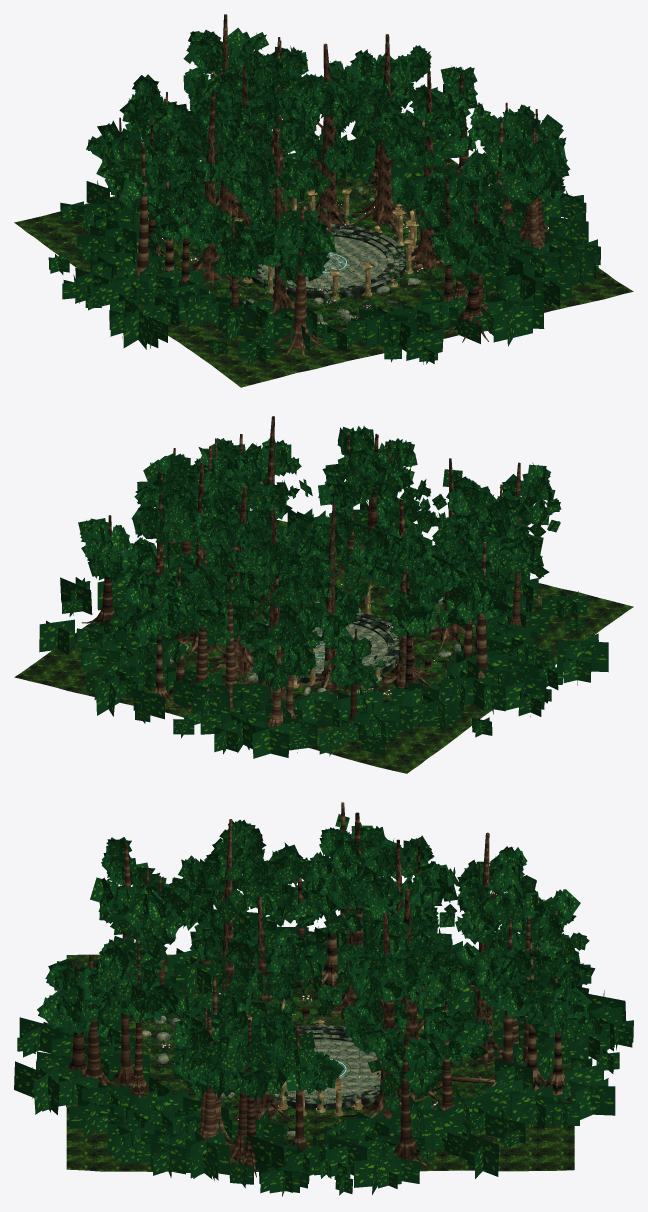
File: cel_forest_arena.glb
3 renders of one model, top to bottom at view 1: azimuth 30°, elevation 25°; view 2: azimuth 150°, elevation 25°; view 3: azimuth 270°, elevation 25°, orthographic. The views are drawn at different scales.
Parts seen in each view (by area): view 1: FOLIAGE_Undergrowth, TREE_Background_Canopy, TERRAIN_Ground, TREE_Background_Bark, TREE_Hero_01_Canopy, TREE_Hero_06_Canopy, TREE_Hero_04_Canopy, TREE_Hero_05_Canopy, TREE_Hero_00_Canopy, TREE_Hero_02_Canopy, ARENA_Flagstones, TREE_Hero_03_Canopy (+13 smaller); view 2: TREE_Background_Canopy, FOLIAGE_Undergrowth, TERRAIN_Ground, TREE_Background_Bark, TREE_Hero_02_Canopy, TREE_Hero_04_Canopy, TREE_Hero_05_Canopy, TREE_Hero_03_Canopy, TREE_Hero_00_Canopy, TREE_Hero_01_Canopy, TREE_Hero_06_Canopy, FOLIAGE_Ferns (+8 smaller); view 3: TREE_Background_Canopy, FOLIAGE_Undergrowth, TERRAIN_Ground, TREE_Background_Bark, TREE_Hero_00_Canopy, TREE_Hero_05_Canopy, TREE_Hero_02_Canopy, TREE_Hero_06_Canopy, TREE_Hero_04_Canopy, TREE_Hero_01_Canopy, TREE_Hero_03_Canopy, ARENA_Flagstones (+9 smaller).
Boxes of the visible parts, <box> form: FOLIAGE_Undergrowth: <box>48,120,600,365</box>; TREE_Background_Canopy: <box>86,31,570,292</box>; TERRAIN_Ground: <box>14,139,633,387</box>; TREE_Background_Bark: <box>117,37,548,357</box>; TREE_Hero_01_Canopy: <box>263,60,390,173</box>; TREE_Hero_06_Canopy: <box>376,84,479,211</box>; TREE_Hero_04_Canopy: <box>166,97,271,203</box>; TREE_Hero_05_Canopy: <box>228,145,331,267</box>; TREE_Hero_00_Canopy: <box>344,45,443,162</box>; TREE_Hero_02_Canopy: <box>183,27,268,112</box>; ARENA_Flagstones: <box>260,236,387,288</box>; TREE_Hero_03_Canopy: <box>189,67,286,192</box>; TREE_Background_Canopy: <box>78,426,561,691</box>; FOLIAGE_Undergrowth: <box>39,503,608,758</box>; TERRAIN_Ground: <box>14,520,633,773</box>; TREE_Background_Bark: <box>81,432,542,727</box>; TREE_Hero_02_Canopy: <box>206,526,333,651</box>; TREE_Hero_04_Canopy: <box>352,502,456,637</box>; TREE_Hero_05_Canopy: <box>398,469,501,593</box>; TREE_Hero_03_Canopy: <box>285,508,378,631</box>; TREE_Hero_00_Canopy: <box>155,474,254,571</box>; TREE_Hero_01_Canopy: <box>167,490,298,614</box>; TREE_Hero_06_Canopy: <box>212,438,312,541</box>; FOLIAGE_Ferns: <box>163,574,476,707</box>; TREE_Background_Canopy: <box>37,814,595,1112</box>; FOLIAGE_Undergrowth: <box>14,909,633,1196</box>; TERRAIN_Ground: <box>66,954,574,1171</box>; TREE_Background_Bark: <box>68,802,570,1177</box>; TREE_Hero_00_Canopy: <box>317,915,444,1061</box>; TREE_Hero_05_Canopy: <box>178,820,283,962</box>; TREE_Hero_02_Canopy: <box>419,846,539,986</box>; TREE_Hero_06_Canopy: <box>211,927,331,1032</box>; TREE_Hero_04_Canopy: <box>277,826,419,946</box>; TREE_Hero_01_Canopy: <box>336,905,484,1033</box>; TREE_Hero_03_Canopy: <box>346,861,455,985</box>; ARENA_Flagstones: <box>279,1039,380,1097</box>.
Bounding box in the file's own units: 79.09 × 31.39 × 78.13.
Materials: 16 (11 with a texture image).
